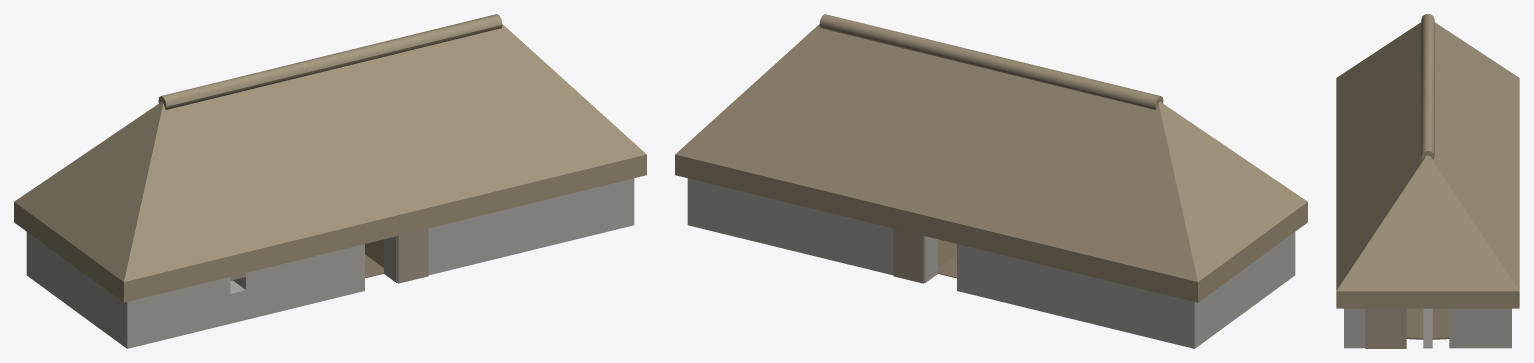
Rendered from longhouse.glb.
The picture shows the model from 3 angles, left to right: view 1: azimuth 30°, elevation 25°; view 2: azimuth 150°, elevation 25°; view 3: azimuth 270°, elevation 25°; orthographic projection. The views are drawn at different scales.
Visible parts, largest first — view 1: byre-door-lintel; view 2: byre-door-lintel; view 3: byre-door-lintel.
Boxes of the visible parts, x1,y1,x2,y2 form: byre-door-lintel: (14, 14, 646, 348); byre-door-lintel: (675, 14, 1307, 348); byre-door-lintel: (1336, 14, 1519, 348).
Bounding box in the file's own units: 16.5 × 5.88 × 6.
